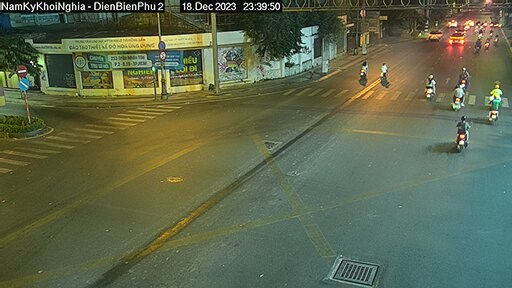car: (450, 29, 469, 46)
motorbike: (450, 115, 472, 148), (418, 74, 436, 100), (373, 62, 392, 85), (484, 95, 501, 120), (489, 79, 504, 101), (452, 85, 466, 108), (358, 57, 372, 79), (459, 67, 470, 84)
